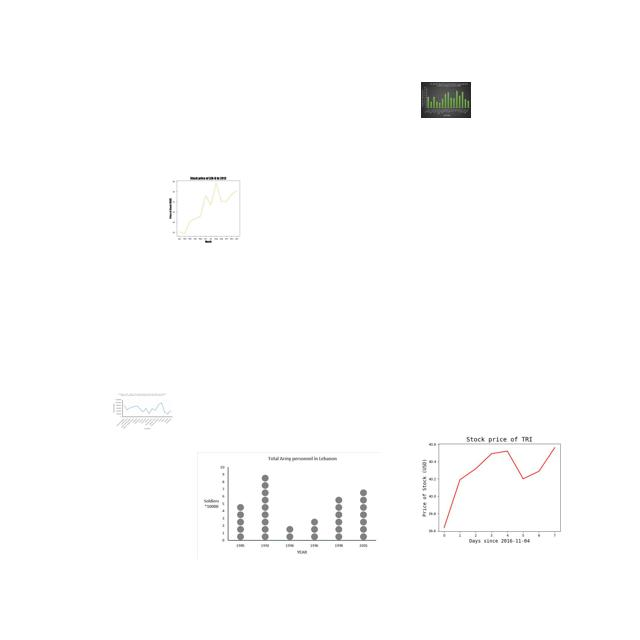Graph: (197, 452, 380, 559), (419, 428, 576, 546), (155, 172, 259, 244), (111, 393, 174, 430), (421, 82, 471, 118)
